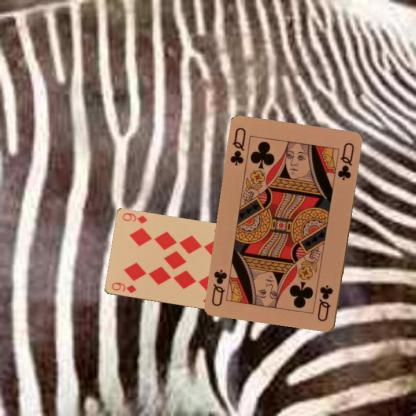9d: (108, 280, 138, 294)
Qc: (228, 125, 247, 167), (315, 283, 334, 323)
